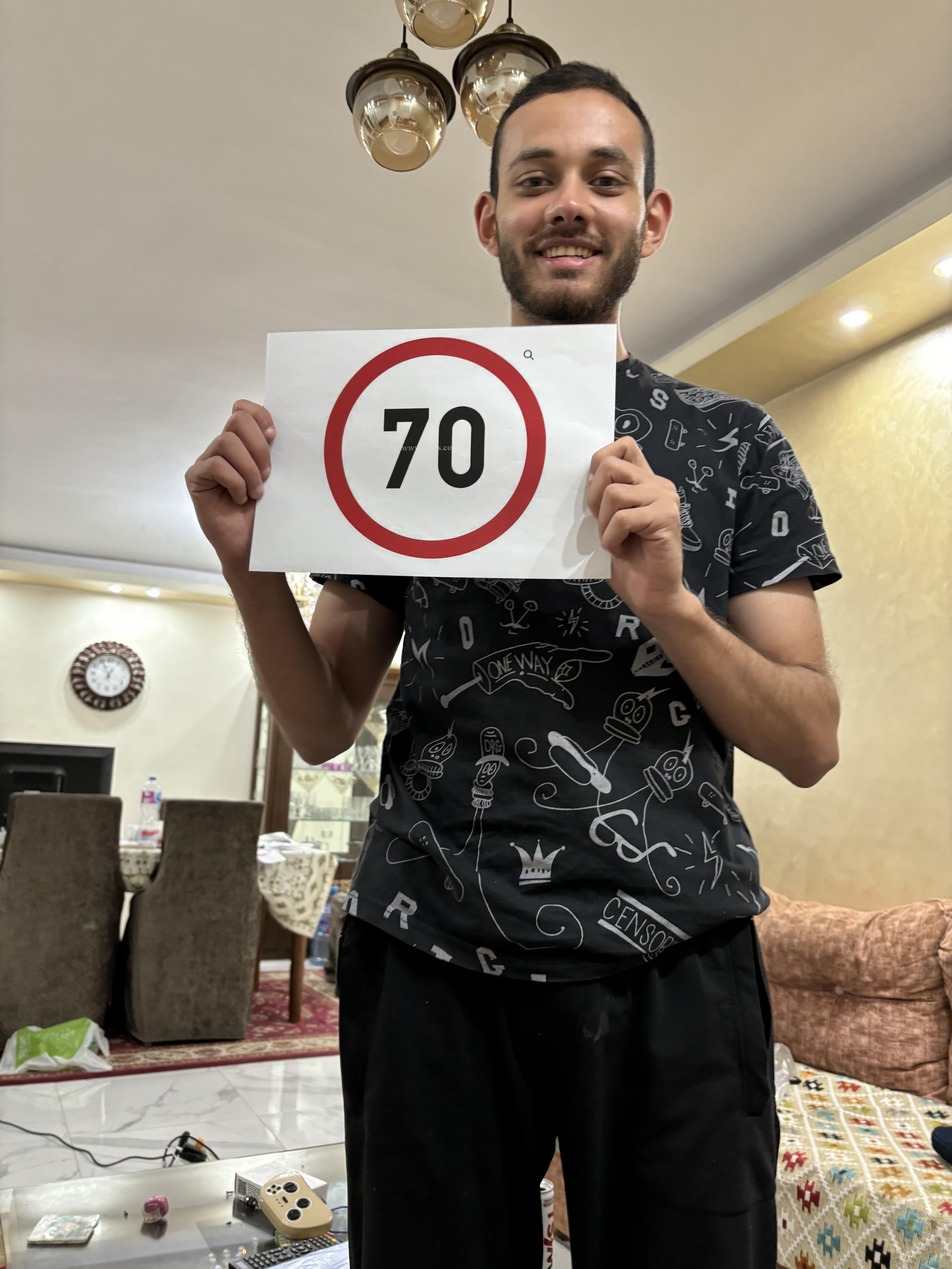70-Speed: (316, 331, 555, 561)
